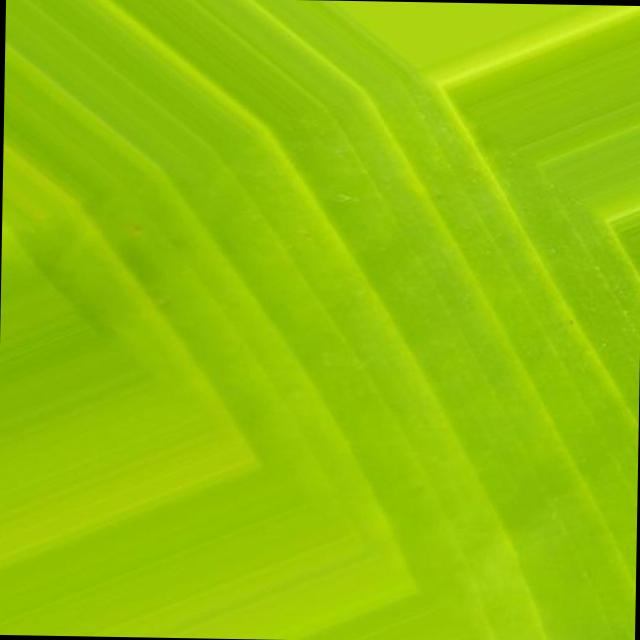Banana_Healthy: (192, 73, 624, 444)
